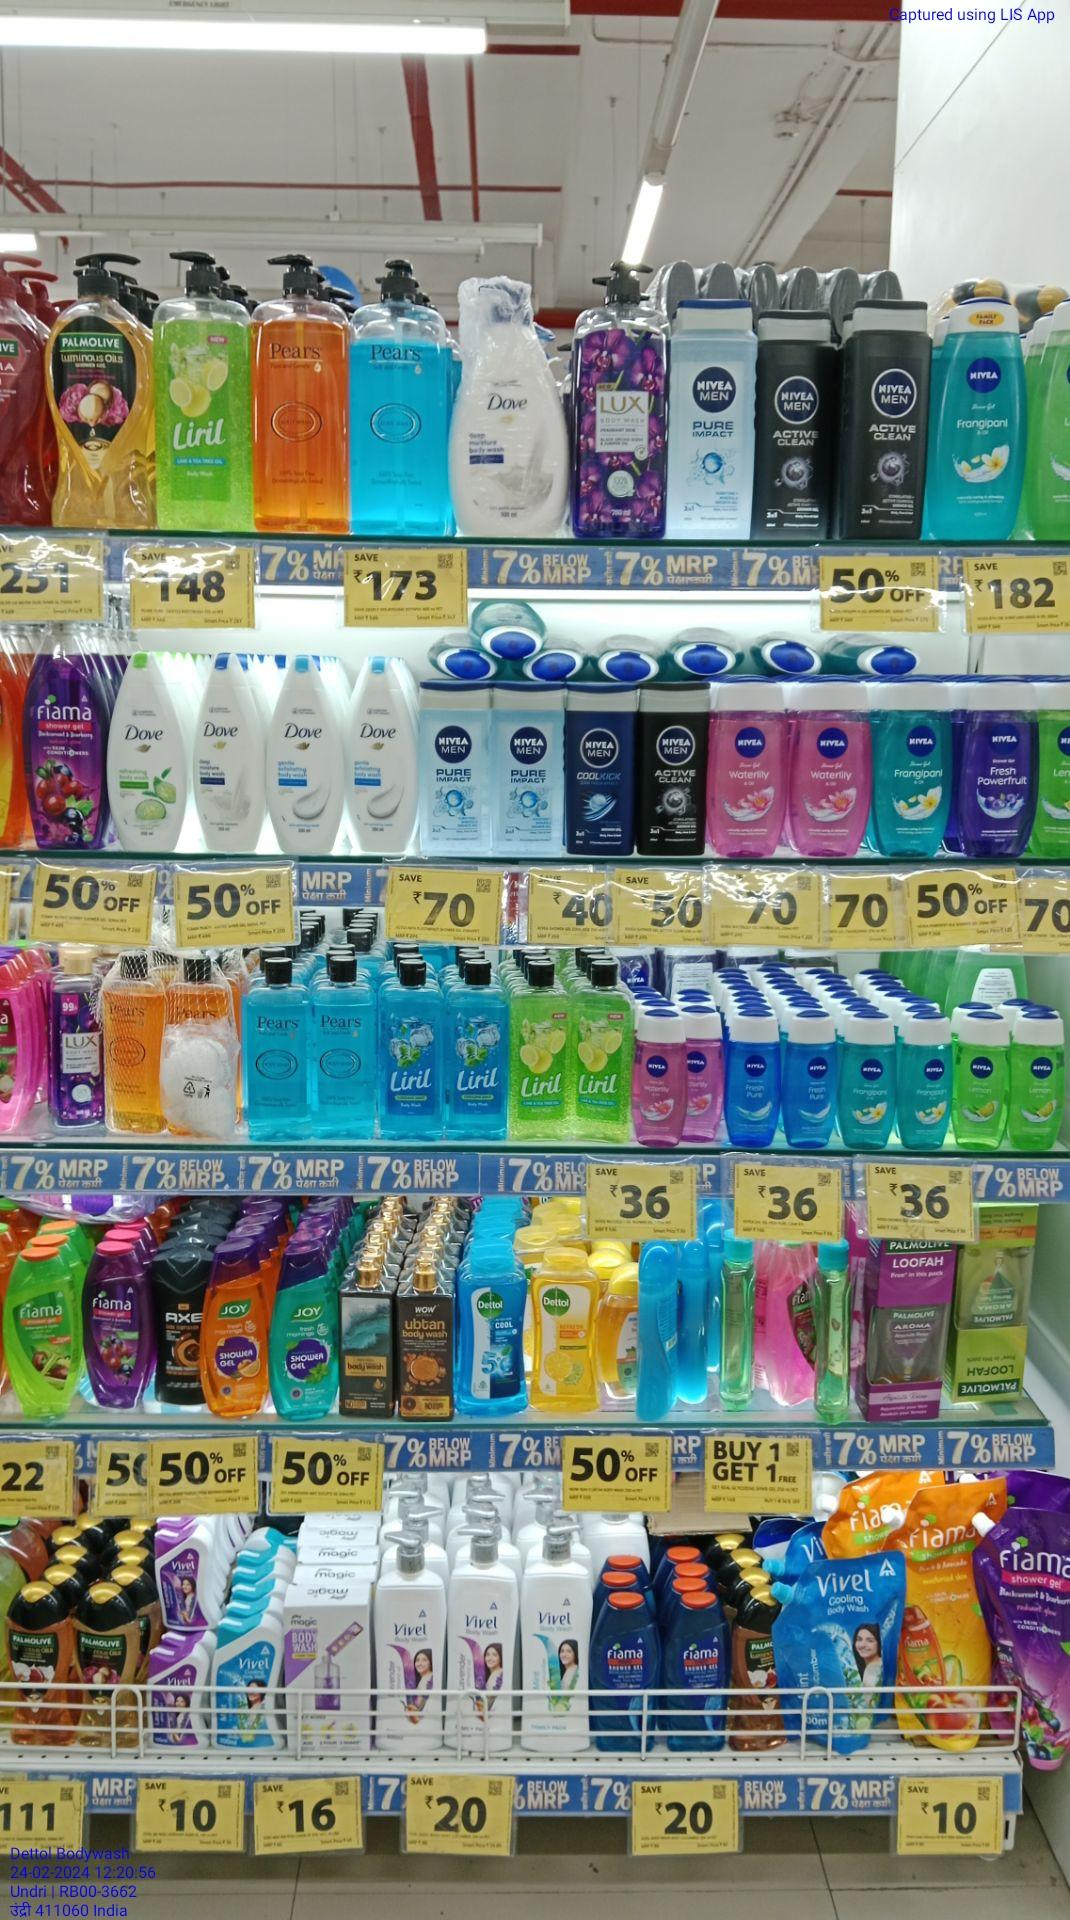Dettol_Bodywash_Cool: (455, 1249, 527, 1418)
Dettol_Bodywash_Refresh: (527, 1248, 601, 1411)
Dove_Deep_Moisture_Body_Wash_250ML: (191, 650, 262, 850)
Dove_Gentle_Exfoliating_Body_Wash_250ML: (264, 655, 344, 853), (344, 655, 415, 851)
Dove_Refreshing_Body_Wash_250ML: (109, 651, 184, 853)
Fiama_Shower_Gel_Lemongrass_and_Jojoba_250ML: (4, 1248, 80, 1417)
Joy_Shower_Gel_Mandarin_and_Lemongrass_250ML: (202, 1240, 269, 1417)
Joy_Shower_Gel_Mint_and_Eucalyptus_250ML: (270, 1245, 336, 1422)
Nivea_Shower_Gel_Frangipani_and_Oil_250ML: (929, 294, 1027, 542), (875, 668, 954, 855)
Nivea_Shower_Gel_Fresh_Powerfruit_250ML: (955, 673, 1038, 859)
Nivea_Shower_Gel_Lemon_and_Oil_250ML: (1009, 1007, 1066, 1150), (954, 1013, 1009, 1149)
Nivea_Shower_Gel_Waterlily_and_Oil_250ML: (785, 671, 874, 855), (709, 675, 783, 857), (633, 1011, 688, 1146)
Palmolive_Luminous_Oils_Invigorating_Macadamia_Oil_With_Peony_250ML: (72, 1581, 142, 1747)
Palmolive_Luminous_Oils_With_White_Orchid_Shower_Gel_250ML: (7, 1581, 69, 1746)
